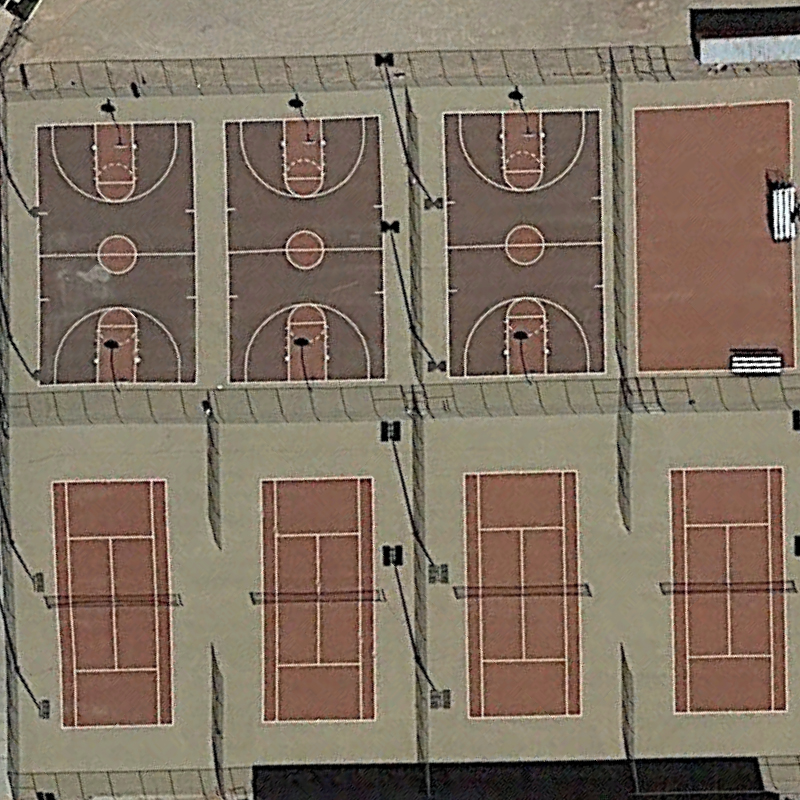basketballcourt: (444, 109, 604, 378), (226, 115, 384, 382), (38, 121, 197, 385)
tenniscourt: (51, 480, 173, 727), (259, 475, 376, 722), (462, 470, 579, 717), (670, 466, 787, 713)
